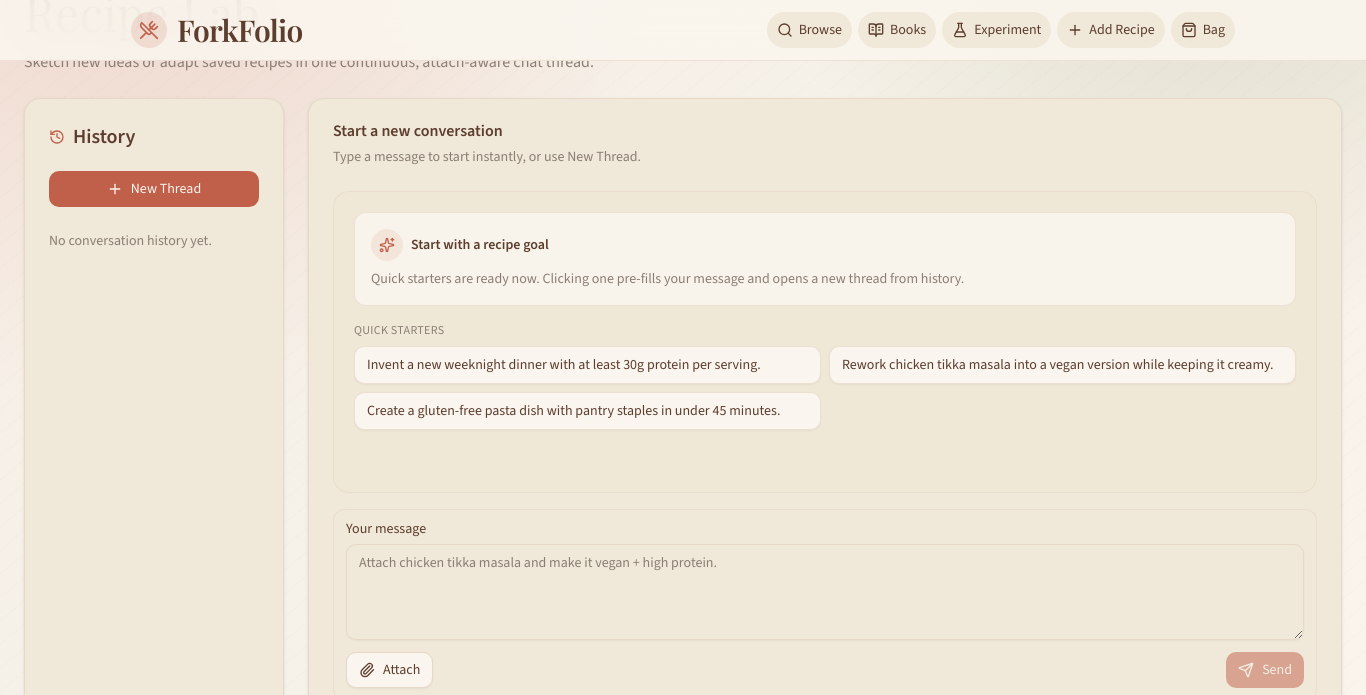
Test: /experiment page › auto-creates a thread when sending the first message from main panel
This screenshot has width=1366, height=695.
(page scrolled)
Step 1. Type "Auto start this thread" into the text box labelled "Your message" → (825, 592), box [346,544,1304,640]
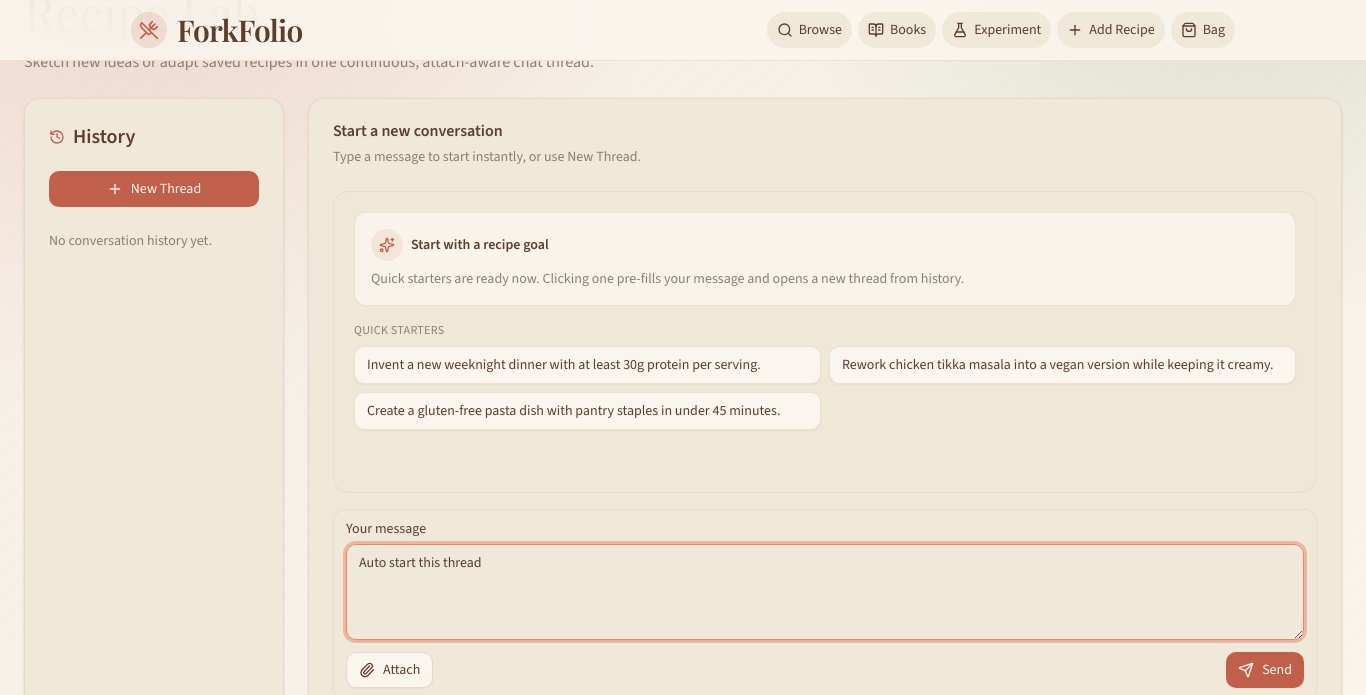
Step 2. Click the button "Send" → click(1265, 670), box [1226,652,1304,688]
(page scrolled)
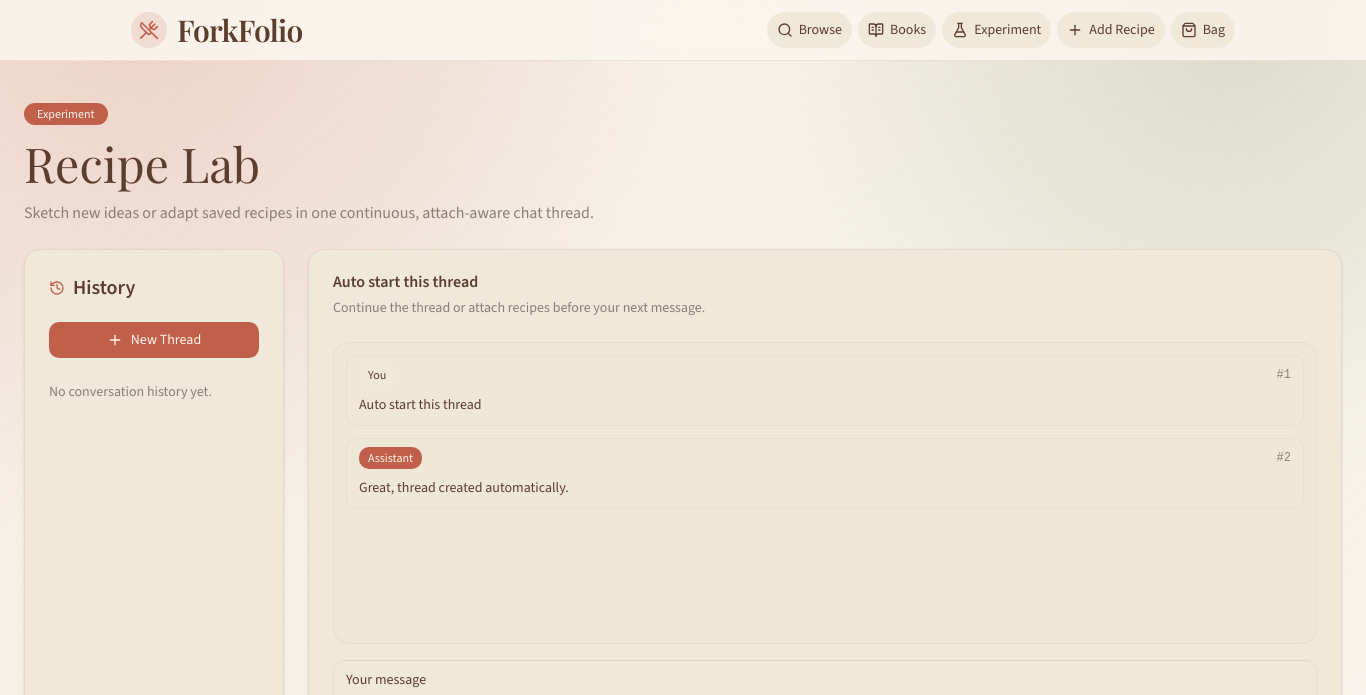
Now the text "Great, thread created automatically." is shown, box [359,478,569,497]
